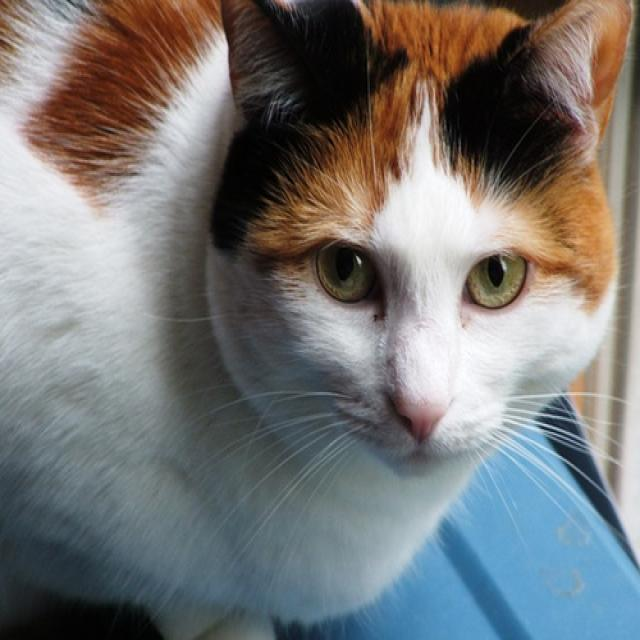left eye: (462, 247, 530, 310)
